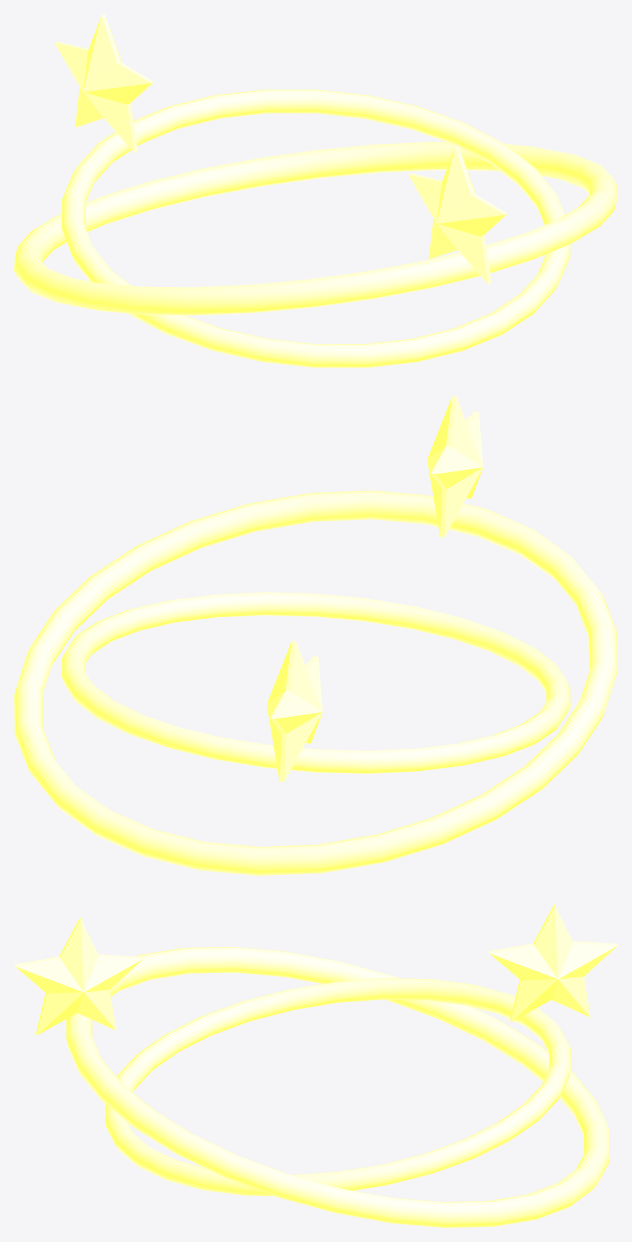
The model's file is dizzy.fbx.
3 views of the same model, one above another, from view 1: azimuth 30°, elevation 25°; view 2: azimuth 150°, elevation 25°; view 3: azimuth 270°, elevation 25° (orthographic). The views are drawn at different scales.
Parts seen in each view (by area): view 1: dizzy; view 2: dizzy; view 3: dizzy.
Boxes of the visible parts, x1,y1,x2,y2 form: dizzy: (14, 14, 617, 367); dizzy: (14, 396, 617, 875); dizzy: (14, 904, 617, 1227).
Size of the model in its own units: 210 by 98.83 by 225.
